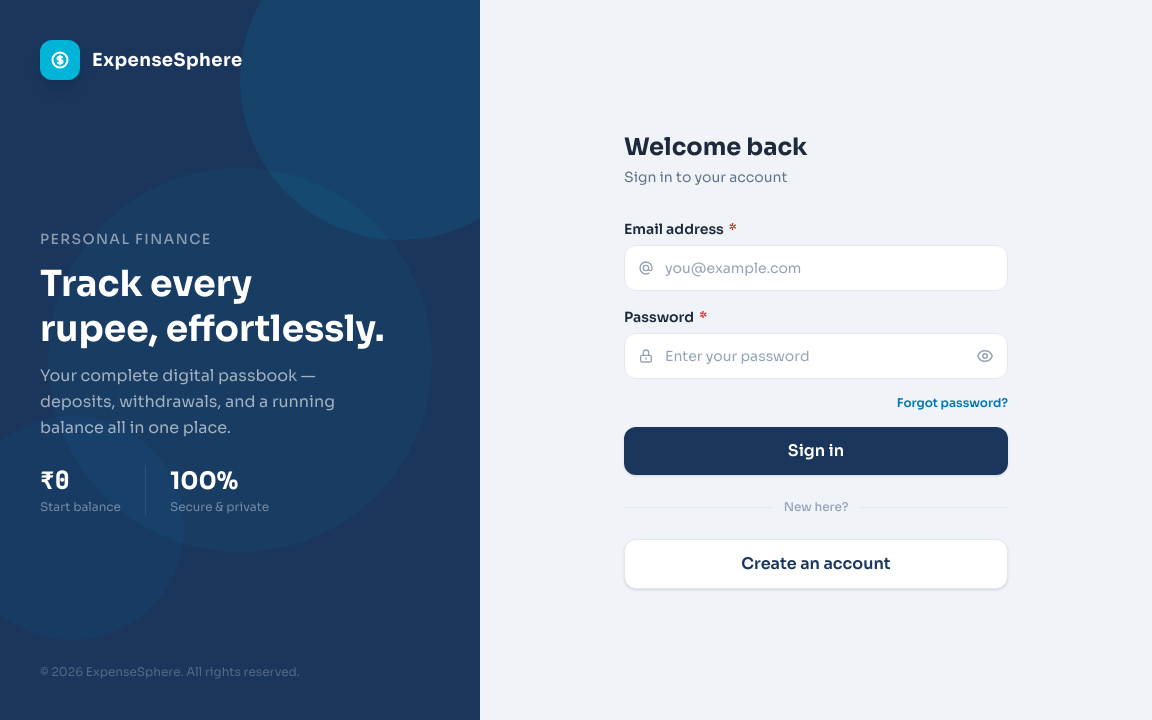
Test: LoginView › validates email format and prevents login
Type "bad-email" into the field with placeholder "you@example.com". click: (816,268)
box: [624, 245, 1008, 291]
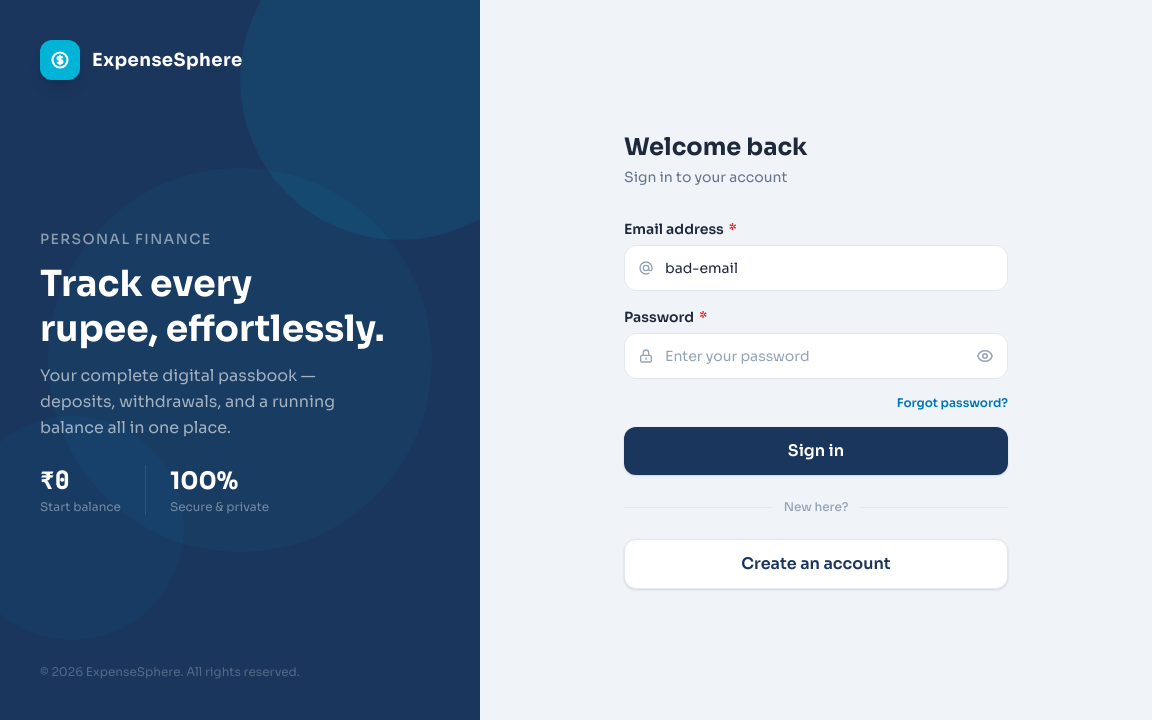
Type "something" into the password field with placeholder "Enter your password". click: (816,356)
box: [624, 333, 1008, 379]
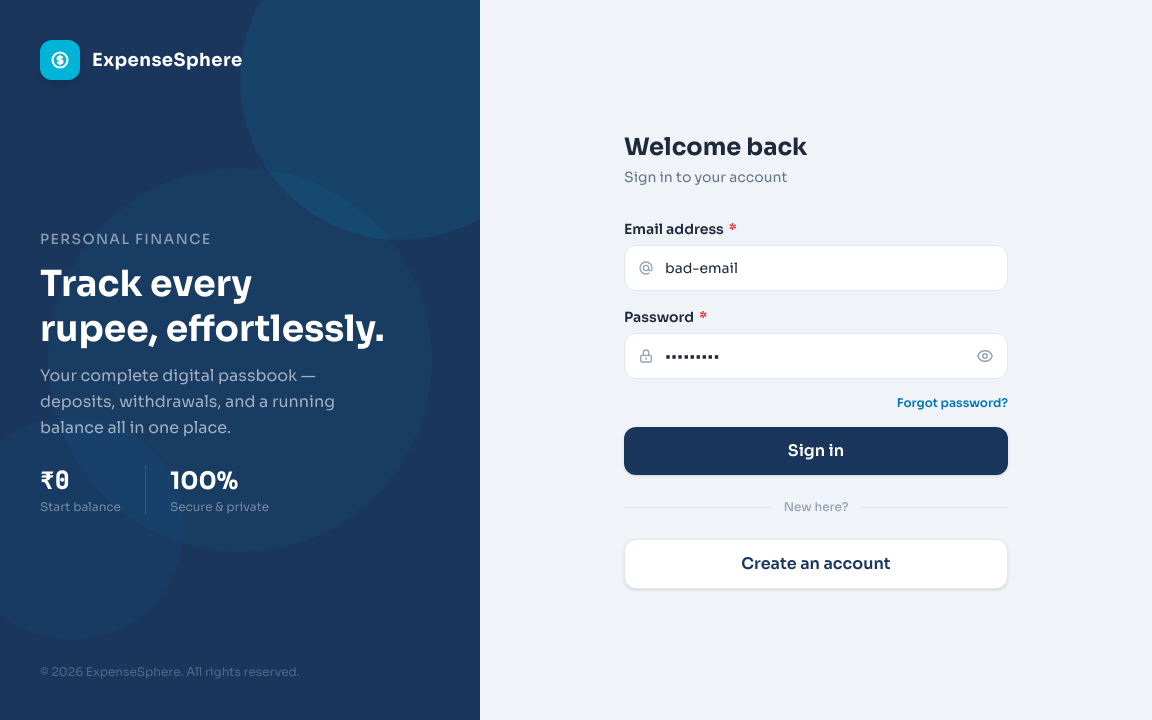
Submit the form, box [624, 219, 1008, 475]
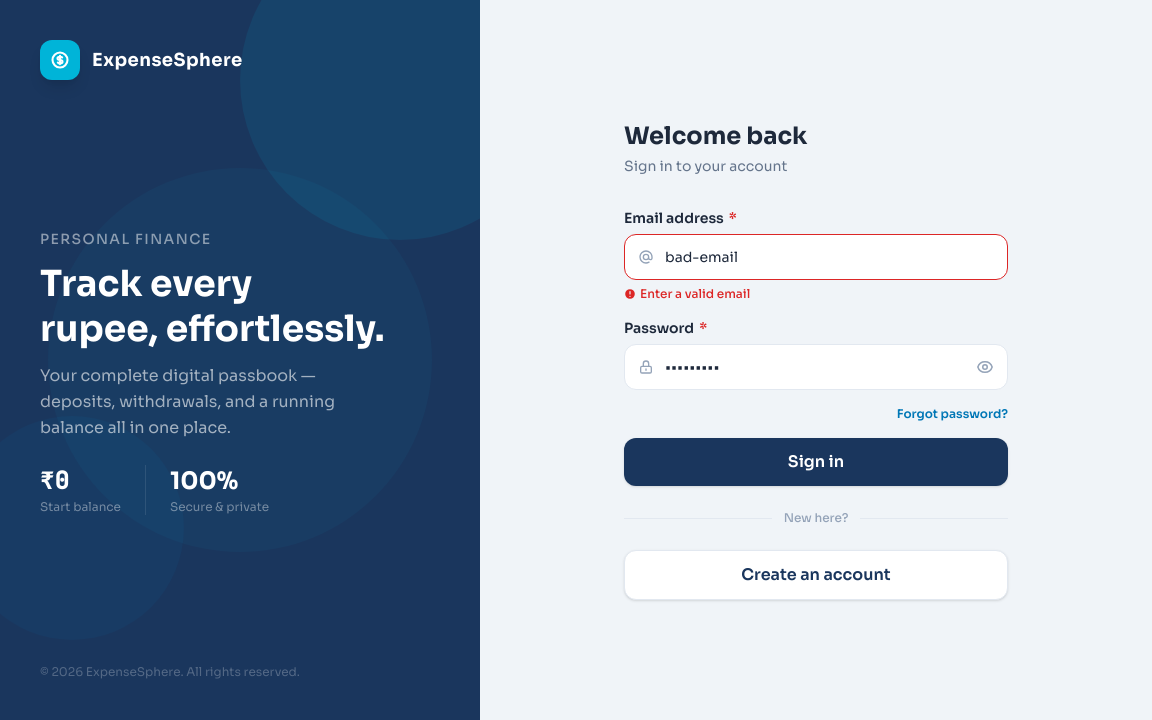
Now the text "Enter a valid email" is shown, box [624, 286, 750, 301]
